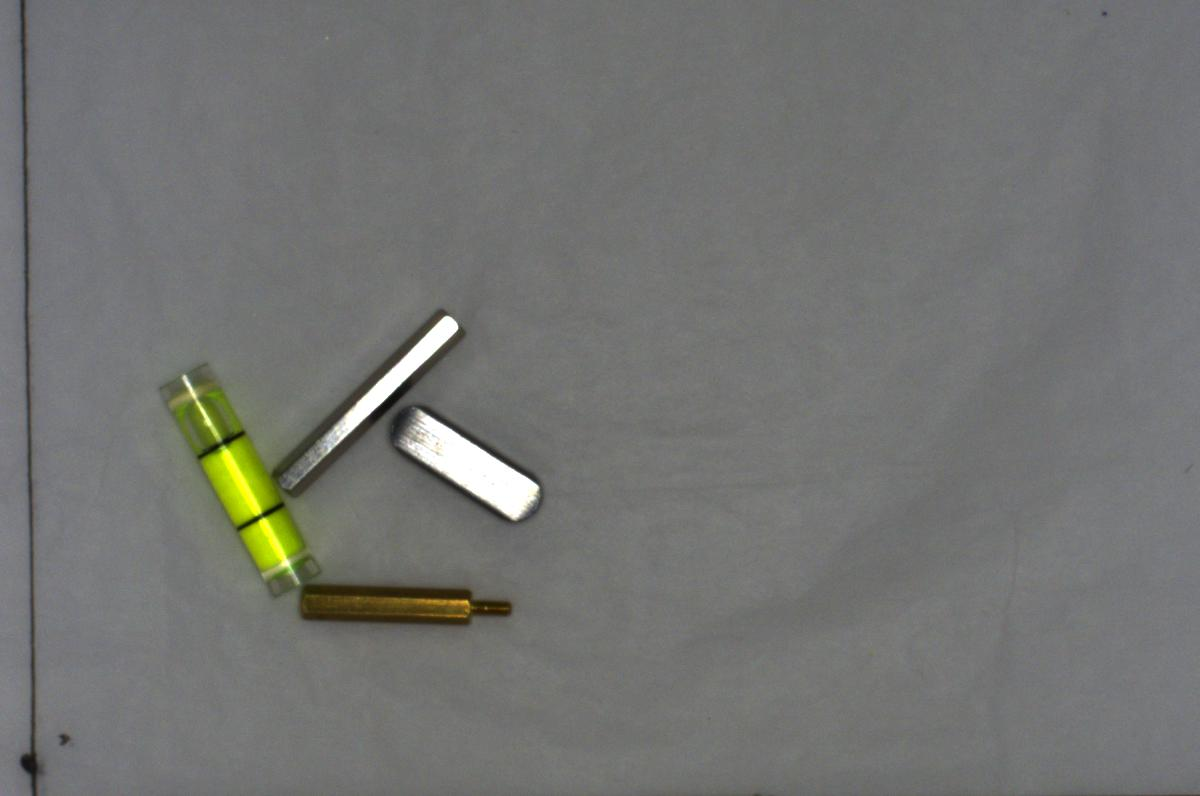Double hexagonal column: (273, 309, 461, 501)
Hexagon pillar: (294, 578, 519, 634)
Horizontal bubble: (161, 362, 320, 595)
Keybar: (379, 405, 550, 526)
